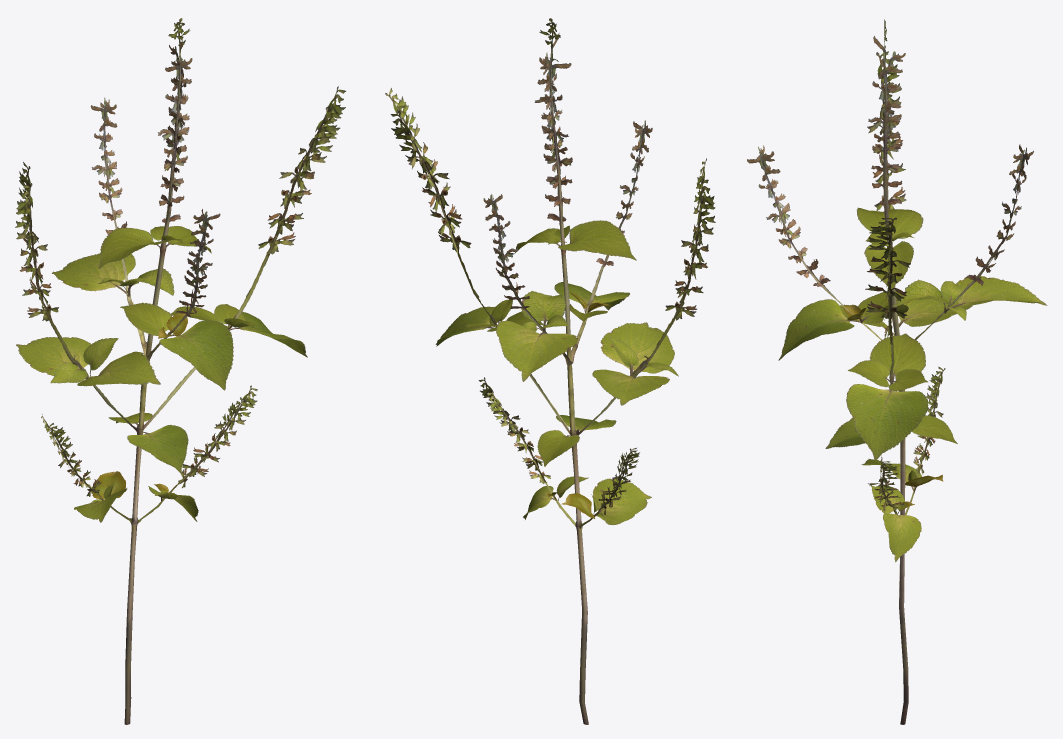
The model's file is shrub_low.glb.
3 renders of one model, left to right at view 1: azimuth 30°, elevation 25°; view 2: azimuth 150°, elevation 25°; view 3: azimuth 270°, elevation 25°, orthographic. The views are drawn at different scales.
Parts seen in each view (by area): view 1: shrub_03_a; view 2: shrub_03_a; view 3: shrub_03_a.
Boxes of the visible parts, box(x1,y1,x2,y2) form: shrub_03_a: box(15, 18, 345, 724); shrub_03_a: box(385, 18, 715, 724); shrub_03_a: box(747, 19, 1047, 724).
Bounding box in the file's own units: 0.2006 × 0.4028 × 0.1512.
Materials: 1 (1 with a texture image).
